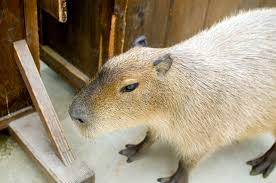capivara: (69, 8, 276, 183)
